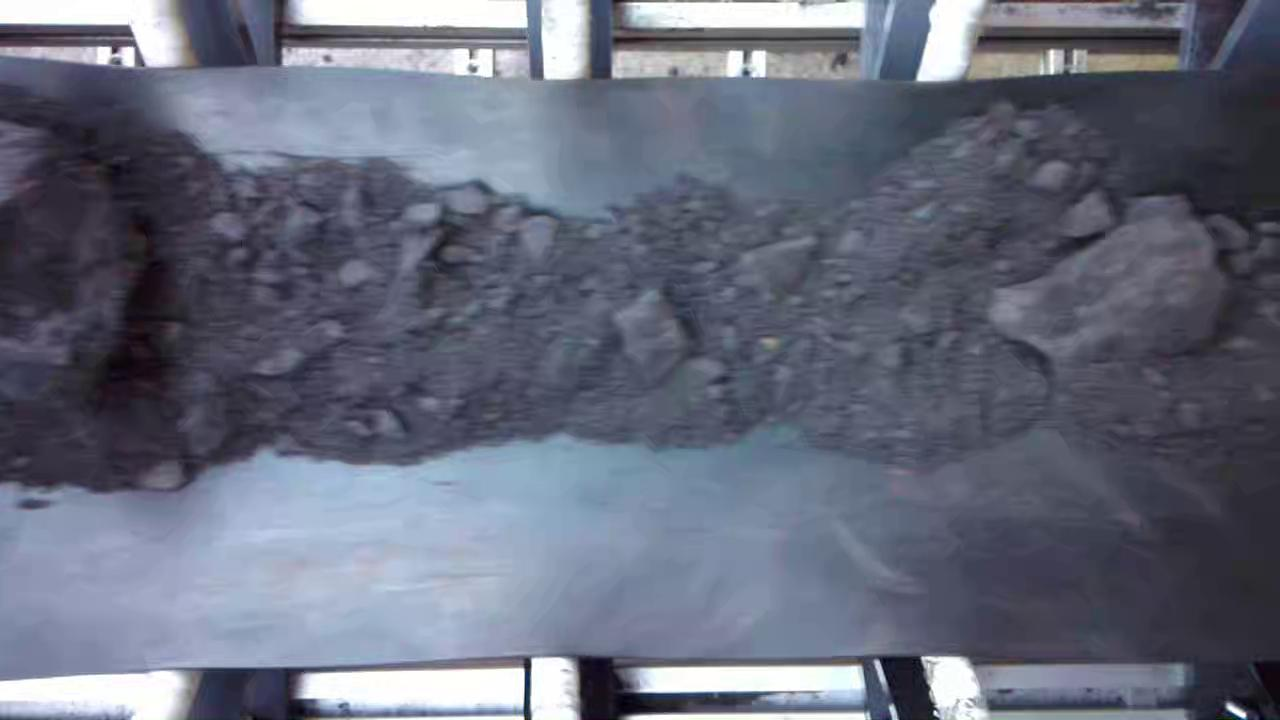conveyor: (15, 93, 1275, 649)
